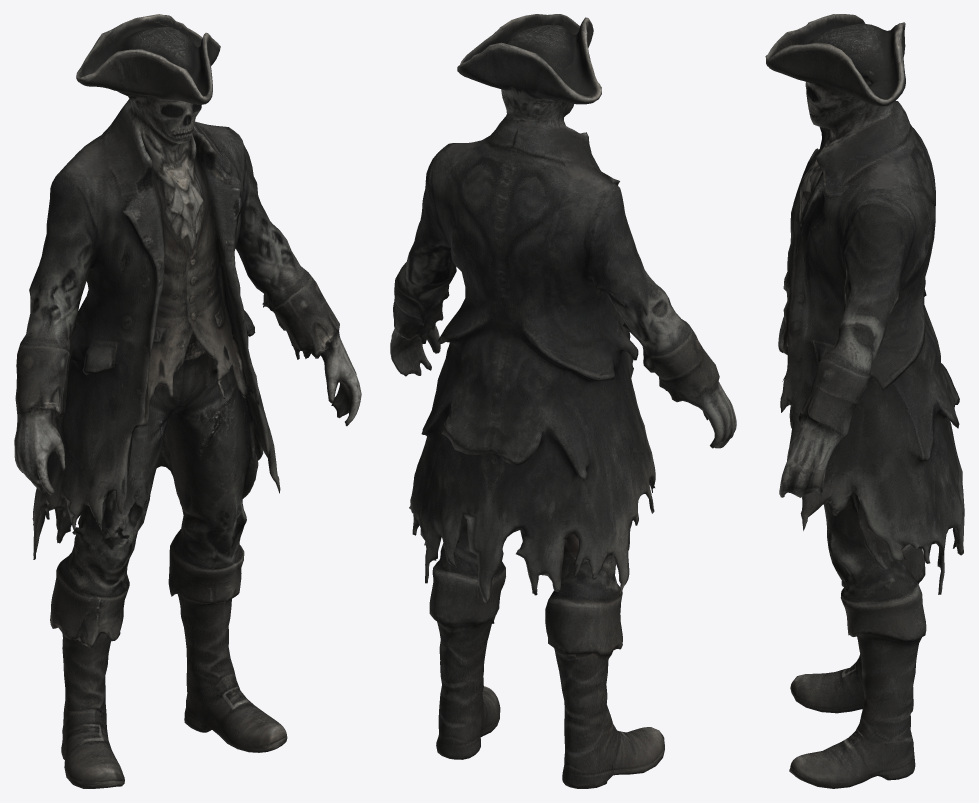
File: undead-ghoul-male.glb
3 renders of one model, left to right at view 1: azimuth 30°, elevation 25°; view 2: azimuth 150°, elevation 25°; view 3: azimuth 270°, elevation 25°, orthographic.
Bounding box in the file's own units: 0.9704 × 2 × 0.5075.
1 material, 1 textured.
